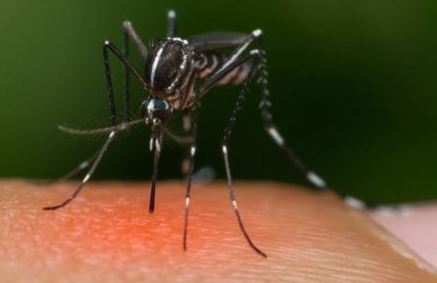dengue_mosquito: (56, 12, 266, 215)
